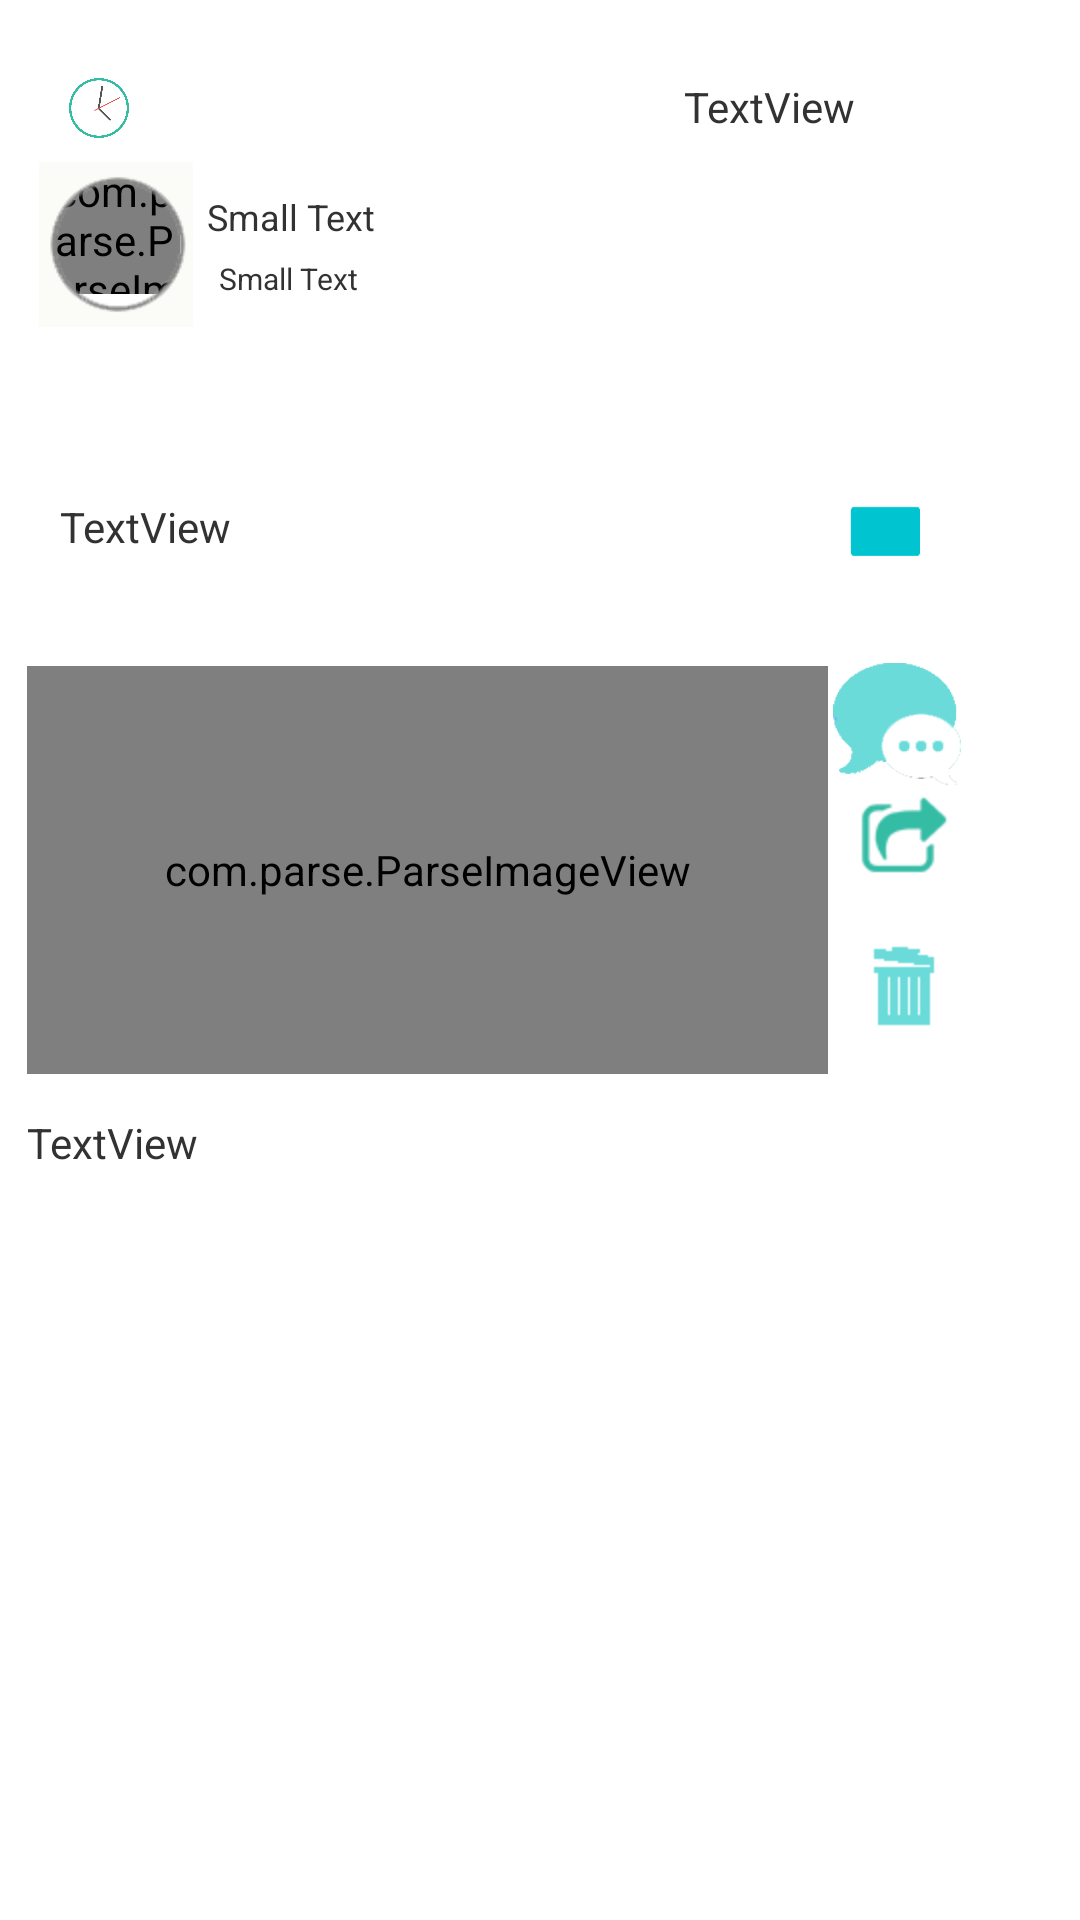

Point at icon controls on the screen. Image size 1080 × 1920, points as (x,y).
delete: (904,986)
repost: (904,835)
time: (99,108)
